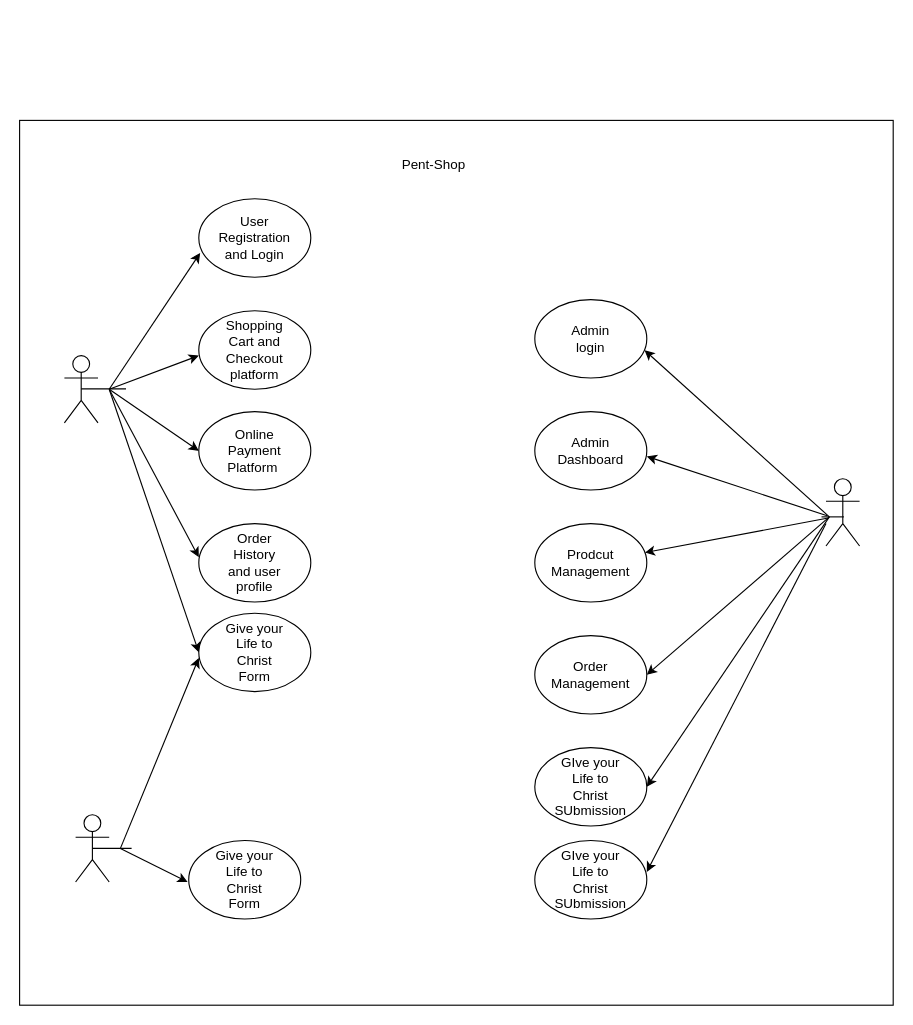
Image size: 913x1025. Some labels were removed from this diagram. The box of each missing label's shape, as (x1, y1, x2, y2) in pixels:
Admin: (825, 478, 860, 546)
User: (63, 354, 98, 423)
Visitor: (74, 814, 109, 882)
